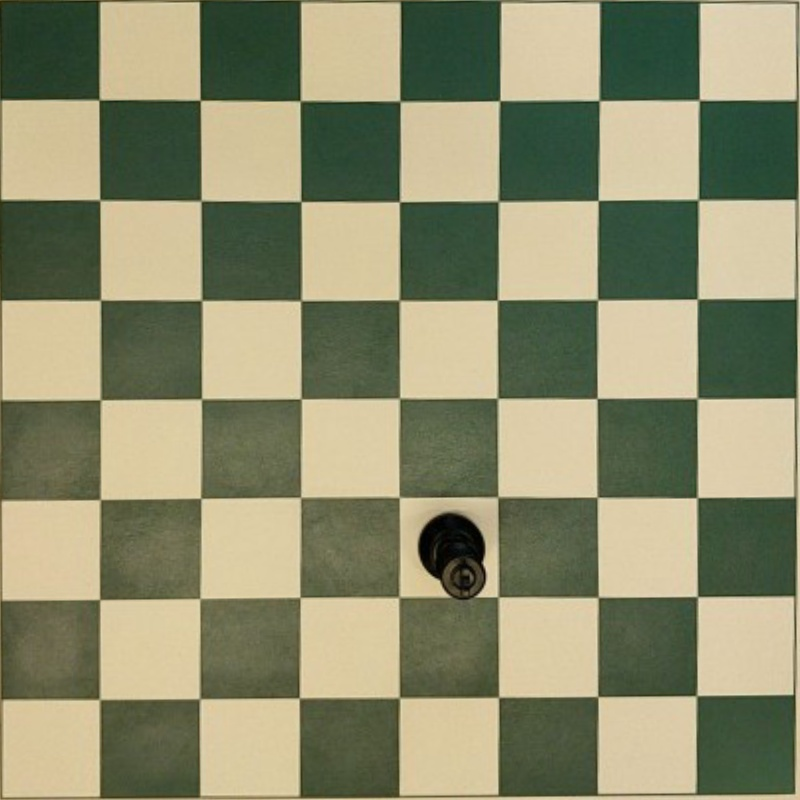black-king: (417, 512, 488, 599)
